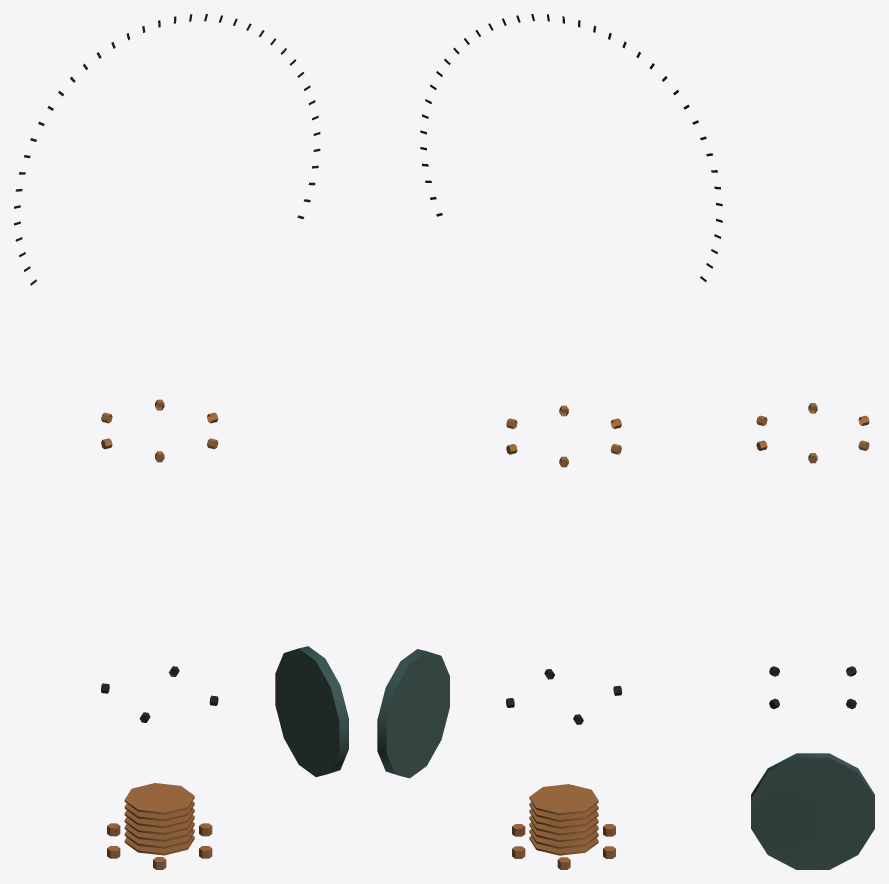
The model's file is gauge_dial_detail2.glb.
The picture shows the model from 3 angles, left to right: view 1: azimuth 30°, elevation 25°; view 2: azimuth 150°, elevation 25°; view 3: azimuth 270°, elevation 25°; orthographic projection. The views are drawn at different scales.
Visible parts, largest first — view 1: DialDetail2; view 2: DialDetail2; view 3: DialDetail2.
Part boxes in pixels (x1=…): DialDetail2: x1=14, y1=14, x2=348, y2=869; DialDetail2: x1=377, y1=14, x2=722, y2=869; DialDetail2: x1=751, y1=403, x2=874, y2=869.
Bounding box in the file's own units: 1.62 × 4.15 × 0.5796.
